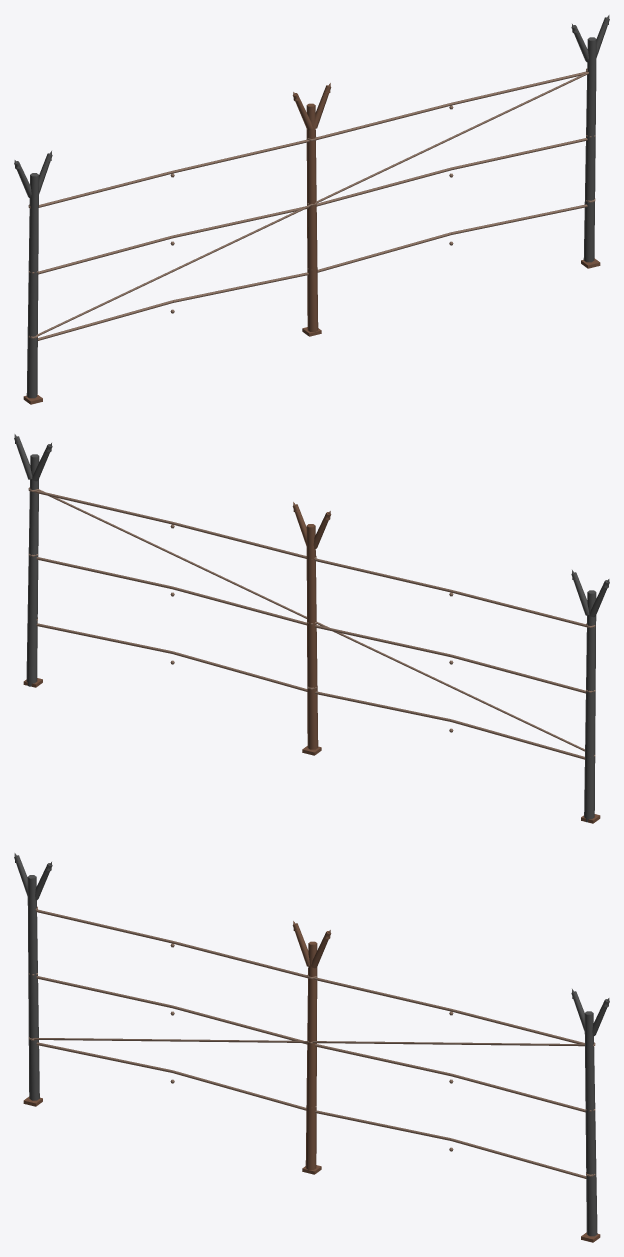
File: barbed-wire-fence.glb
3 views of the same model, one above another, from view 1: azimuth 30°, elevation 25°; view 2: azimuth 150°, elevation 25°; view 3: azimuth 330°, elevation 25° (orthographic).
Parts seen in each view (by area): view 1: Mesh_PostShaft2, Mesh_PostShaft0, Mesh_PostShaft1, Mesh_DiagWire; view 2: Mesh_PostShaft1, Mesh_PostShaft2, Mesh_PostShaft0, Mesh_DiagWire; view 3: Mesh_PostShaft2, Mesh_PostShaft0, Mesh_PostShaft1, Mesh_DiagWire.
Boxes of the visible parts, bbox=[...] form: Mesh_PostShaft2: bbox=[583, 37, 596, 262]; Mesh_PostShaft0: bbox=[26, 173, 38, 398]; Mesh_PostShaft1: bbox=[306, 103, 318, 334]; Mesh_DiagWire: bbox=[36, 72, 588, 336]; Mesh_PostShaft1: bbox=[306, 524, 318, 749]; Mesh_PostShaft2: bbox=[26, 454, 39, 686]; Mesh_PostShaft0: bbox=[584, 590, 596, 822]; Mesh_DiagWire: bbox=[38, 489, 584, 751]; Mesh_PostShaft2: bbox=[584, 1011, 597, 1236]; Mesh_PostShaft0: bbox=[27, 875, 39, 1100]; Mesh_PostShaft1: bbox=[305, 941, 317, 1172]; Mesh_DiagWire: bbox=[33, 1038, 584, 1046].
Bounding box in the file's own units: 3.84 × 1.52 × 0.09.
